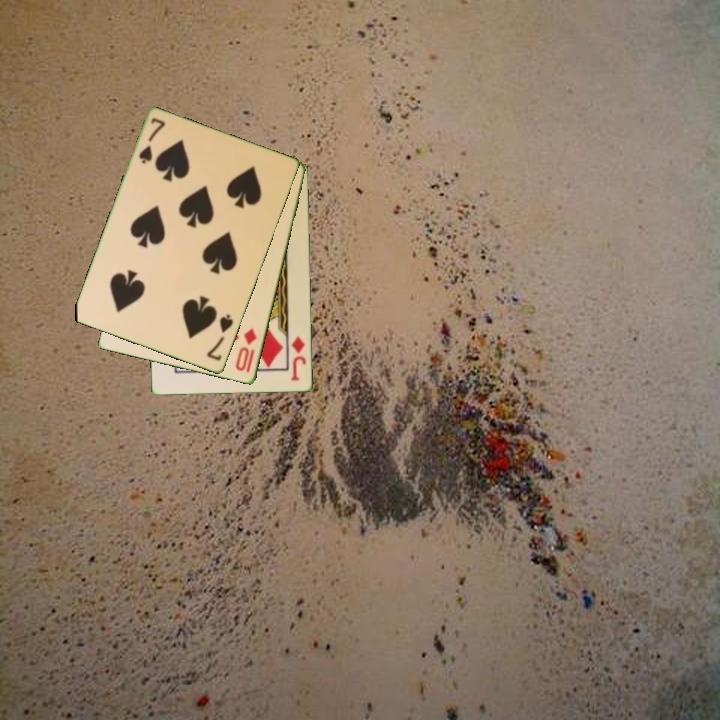10d: (232, 324, 260, 376)
7s: (203, 311, 236, 364), (135, 114, 168, 167)
Jd: (288, 333, 309, 384)
